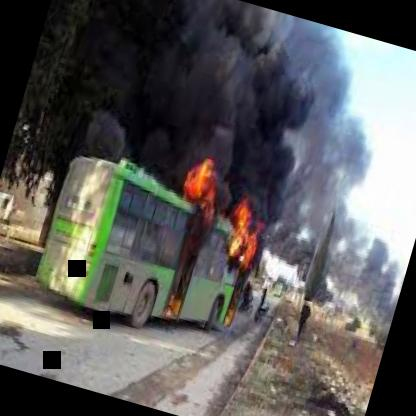fire: (52, 52, 309, 322)
